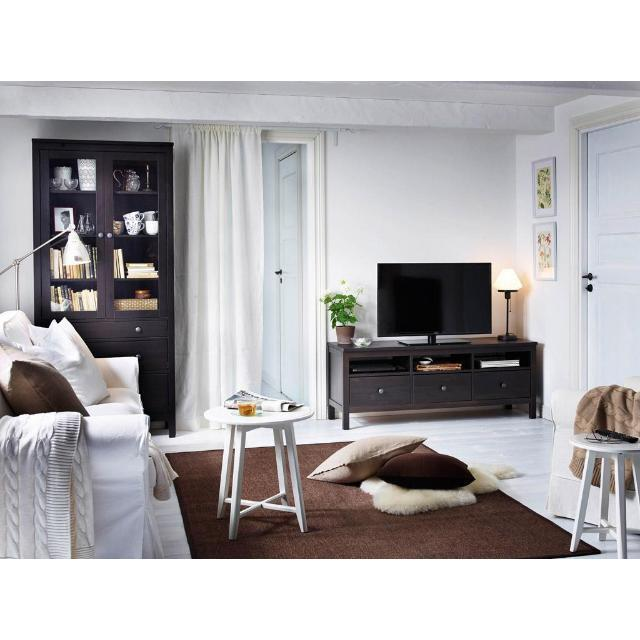couch: (0, 311, 176, 558)
lamp: (0, 222, 90, 309), (495, 268, 522, 340)
pillow: (22, 318, 109, 406), (0, 348, 89, 416), (308, 436, 426, 483), (376, 455, 475, 489)
plant: (320, 280, 364, 344)
rug: (168, 442, 599, 558)
shelf: (32, 138, 175, 435), (328, 337, 536, 429)
stool: (570, 434, 640, 558)
wall-art: (171, 124, 264, 430), (531, 157, 556, 218), (532, 223, 556, 281)
